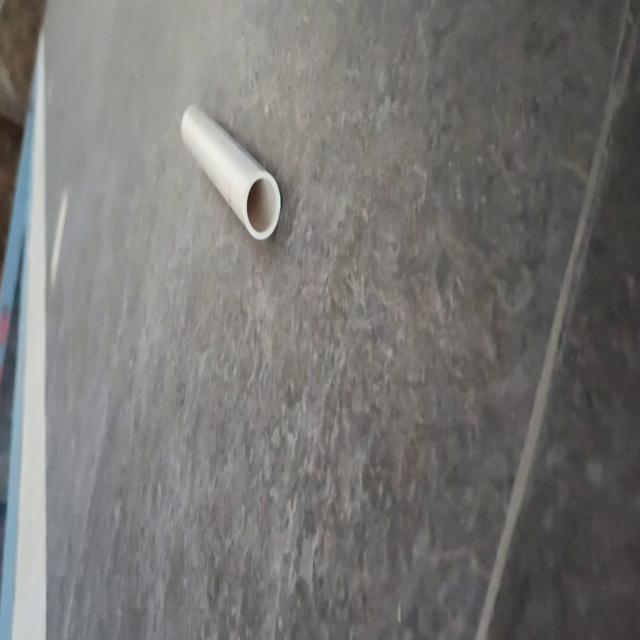Cube: (180, 101, 282, 242)
